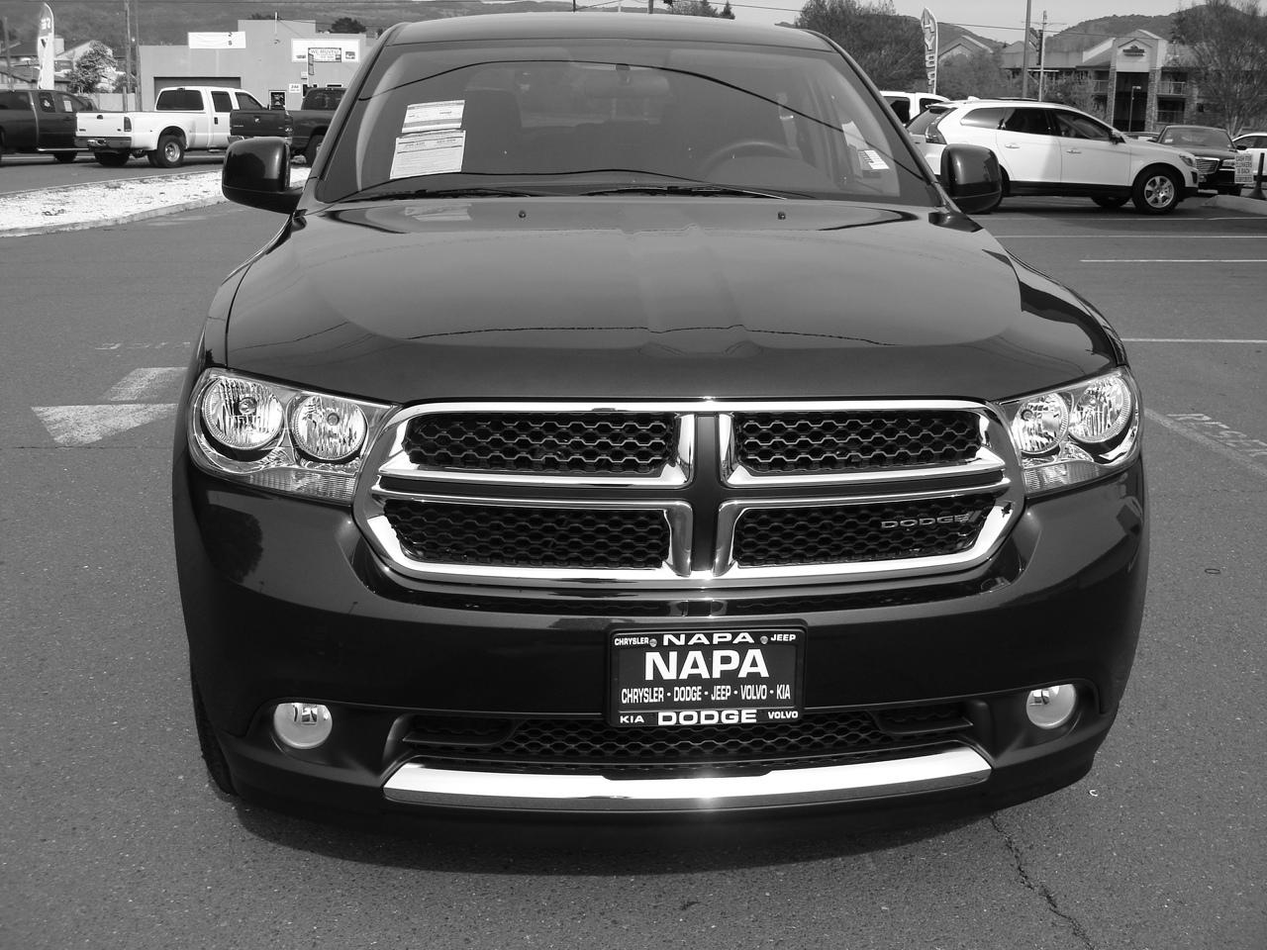car: (166, 9, 1157, 871)
